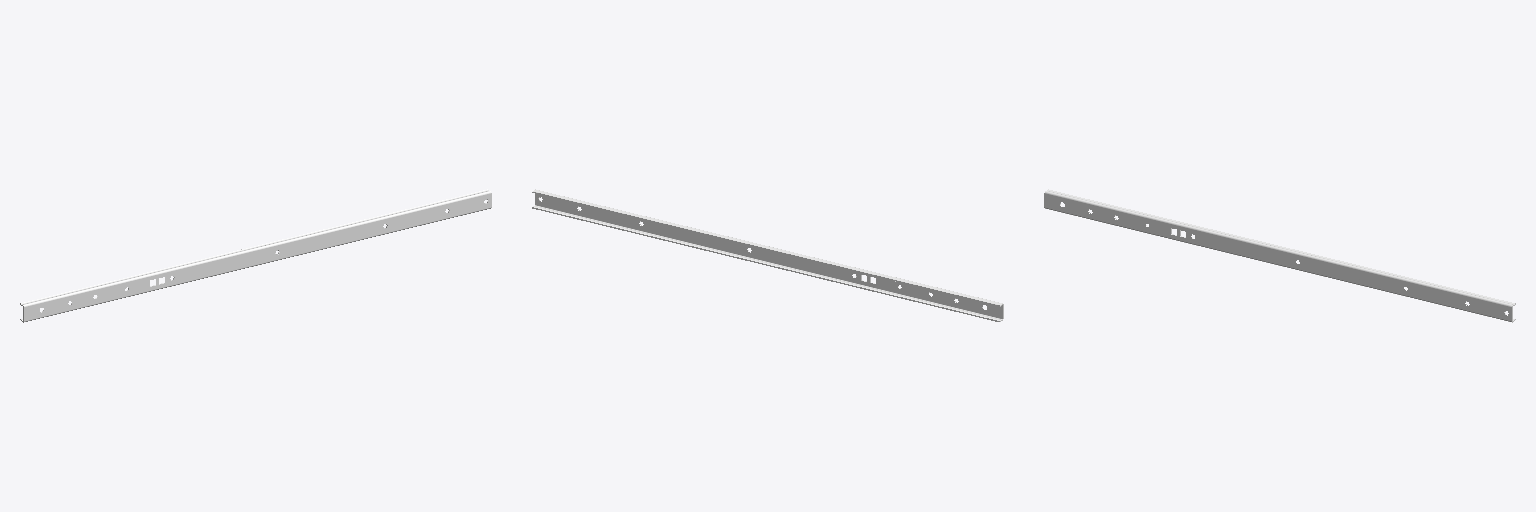
The robot description file, URDF, robot "Slide2":
<?xml version="1.0" ?>
<robot name="Slide2">
  <link name="base_link">
    <contact>
      <lateral_friction value="0.5"/>
      <rolling_friction value="0.001"/>
      <contact_cfm value="0.0"/>
      <contact_erp value="1.0"/>
    </contact>
    <inertial>
      <origin rpy="0 0 0" xyz="0 0 0"/>
      <mass value="1.0"/>
      <inertia ixx="0.001" ixy="0" ixz="0" iyy="0.001" iyz="0" izz="0.001"/>
    </inertial>
    <visual>
      <origin rpy="0 0 0" xyz="0 0 0"/>
      <geometry>
        <mesh filename="Slide2.obj" scale="1 1 1"/>
      </geometry>
      <material name="white">
        <color rgba="1 1 1 1"/>
      </material>
    </visual>
    <collision>
      <origin rpy="0 0 0" xyz="0 0 0"/>
      <geometry>
        <mesh filename="Slide2.obj" scale="1 1 1"/>
      </geometry>
    </collision>
  </link>
</robot>

--- Facts derived from the render (not from the file) ---
The picture shows the robot from 3 angles, left to right: view 1: azimuth 30°, elevation 25°; view 2: azimuth 150°, elevation 25°; view 3: azimuth 330°, elevation 25°; orthographic projection.
Model Slide2 with 1 links and 0 joints (none), rooted at base_link, posed every joint at zero.
Links seen in each view (by area): view 1: base_link; view 2: base_link; view 3: base_link.
Link boxes in pixels (x1,y1,x2,y2): base_link: (20,189,491,322); base_link: (532,189,1003,321); base_link: (1044,189,1515,322).
Bounding box of the posed robot: 0.78 × 0.01 × 0.028 m (x, y, z).
Meshes: 1 distinct files referenced, 1 mesh visuals loaded (1 OBJ).
